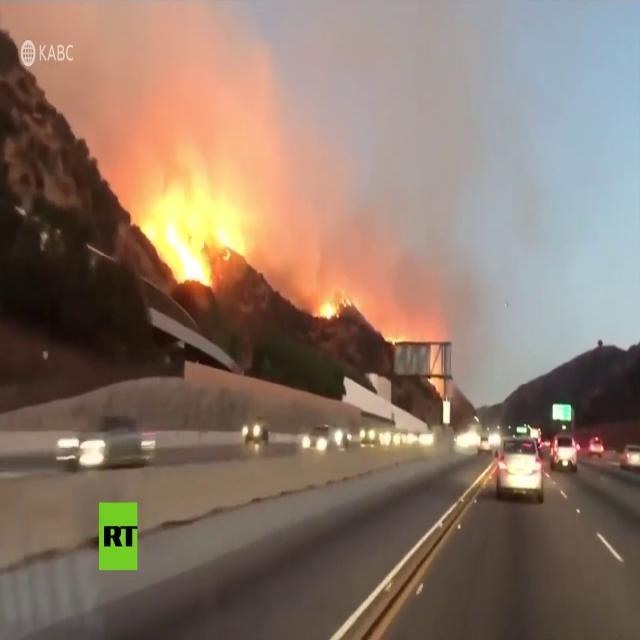Fire: (154, 210, 230, 282), (319, 295, 341, 322)
Smoke: (118, 46, 231, 166)
